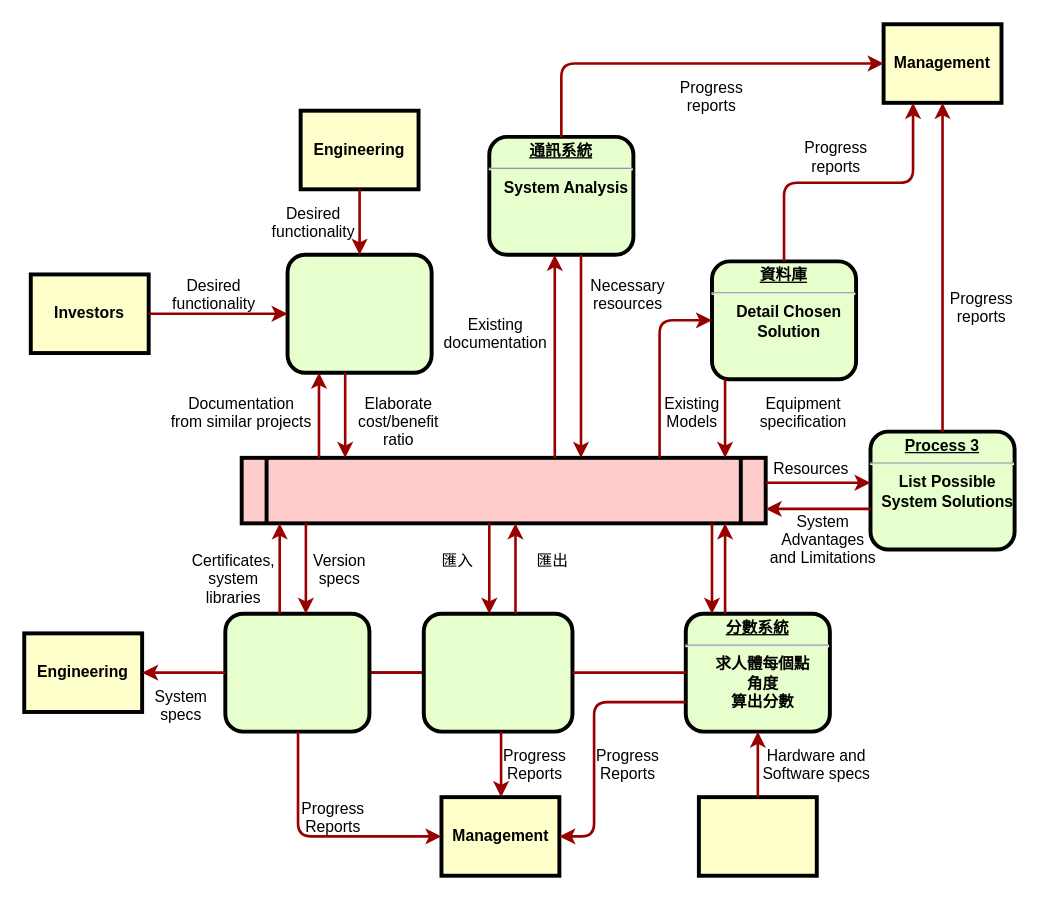
This 1039x900 diagram has some shape labels left out. Each missing label, with the centre of its shape:
AI系統: pixel 503 490
Mediapipe 取得骨架 關鍵點: pixel 497 672
Vendors: pixel 757 836
YOLO模型 辨識 姿勢 (HighV,Punch): pixel 297 672
拍照系統 System Study Preparation: pixel 359 313
